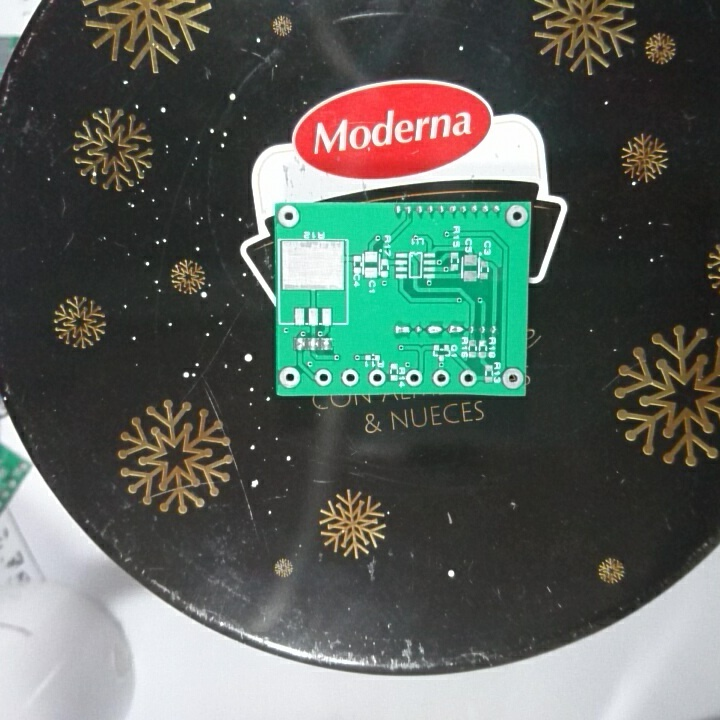F: (277, 203, 301, 229), (504, 204, 529, 228), (500, 366, 523, 391), (278, 366, 302, 389), (313, 366, 335, 388), (340, 367, 361, 388), (457, 367, 478, 388), (402, 368, 425, 387), (368, 367, 388, 388), (431, 368, 451, 389)
P: (424, 321, 445, 339), (391, 323, 414, 338), (446, 322, 466, 336)
